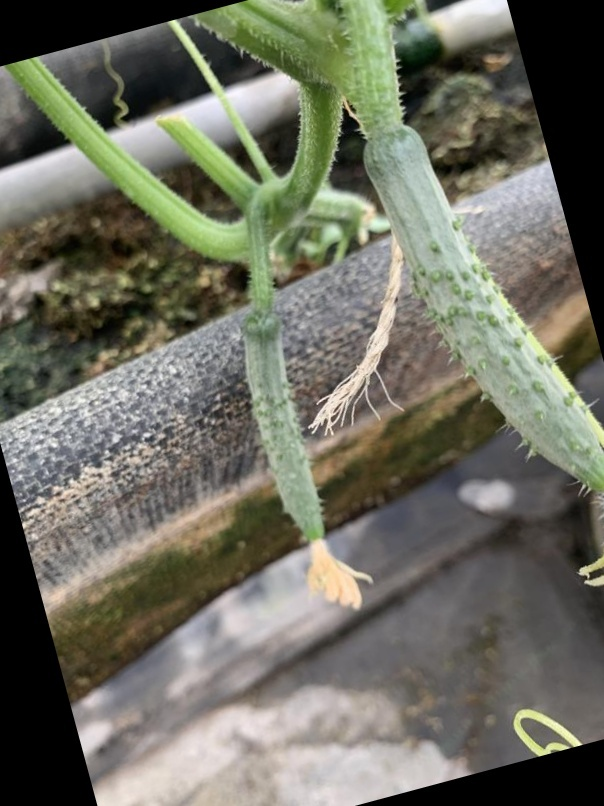bear: (238, 312, 340, 564)
growth: (359, 107, 604, 572)
